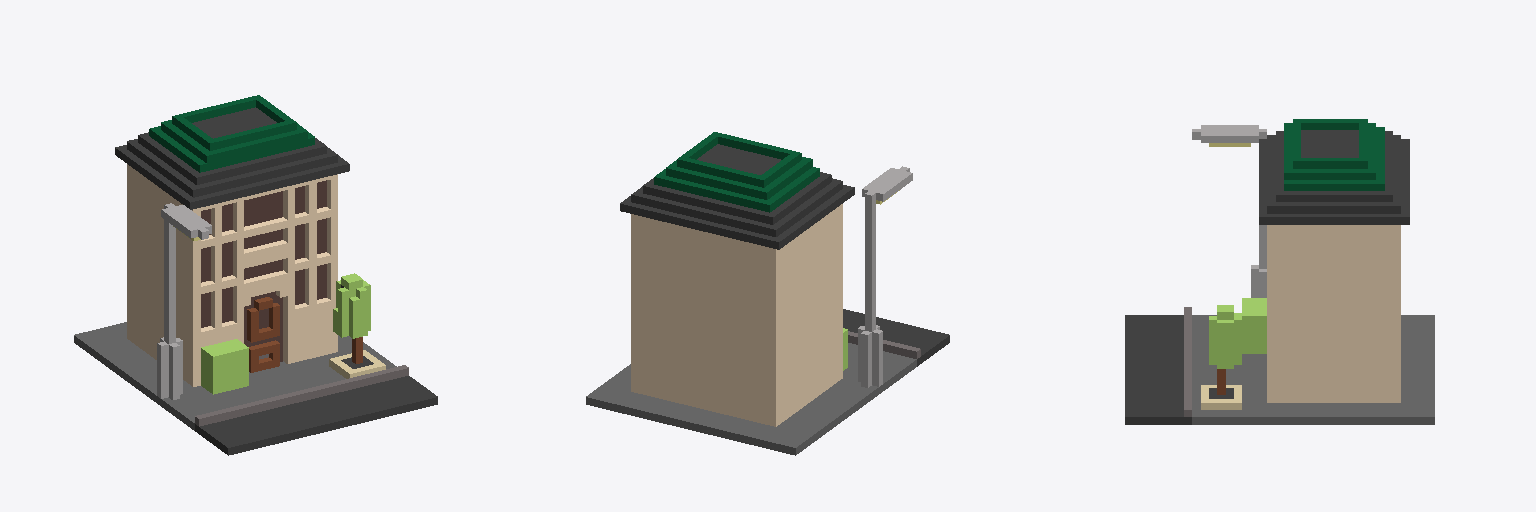
The picture shows the model from 3 angles: view 1: azimuth 30°, elevation 25°; view 2: azimuth 150°, elevation 25°; view 3: azimuth 270°, elevation 25°; orthographic projection.
Parts seen in each view (by area): view 1: object 1; view 2: object 1; view 3: object 1.
Boxes of the visible parts, <box> form: object 1: <box>74,95,437,455</box>; object 1: <box>586,132,949,455</box>; object 1: <box>1125,119,1434,424</box>.
Bounding box in the file's own units: 2.9 × 3.1 × 3.7.
1 materials, 1 textured.